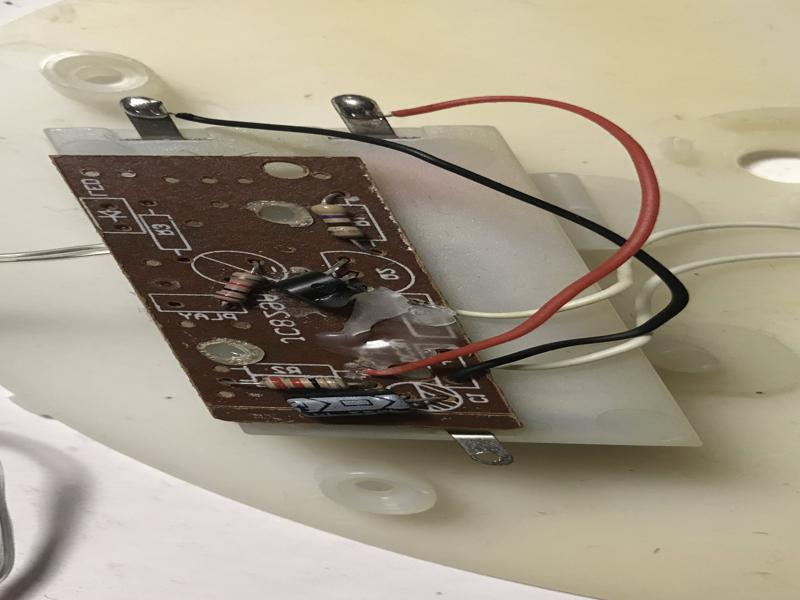Capacitor: (285, 385, 414, 421)
Resistor: (306, 200, 367, 245), (257, 373, 350, 396), (211, 268, 266, 306)
